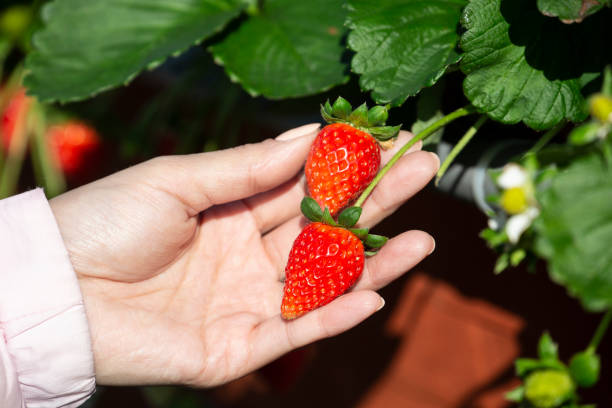Fresa: (300, 115, 387, 229), (278, 216, 369, 322)
